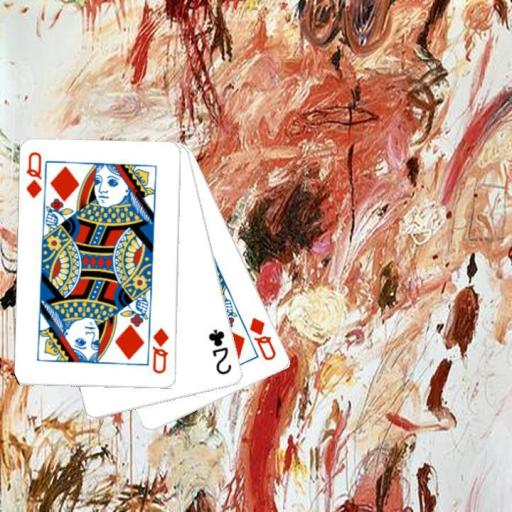2C: (205, 326, 234, 377)
QD: (247, 314, 278, 363), (149, 325, 171, 375), (23, 150, 43, 201)
